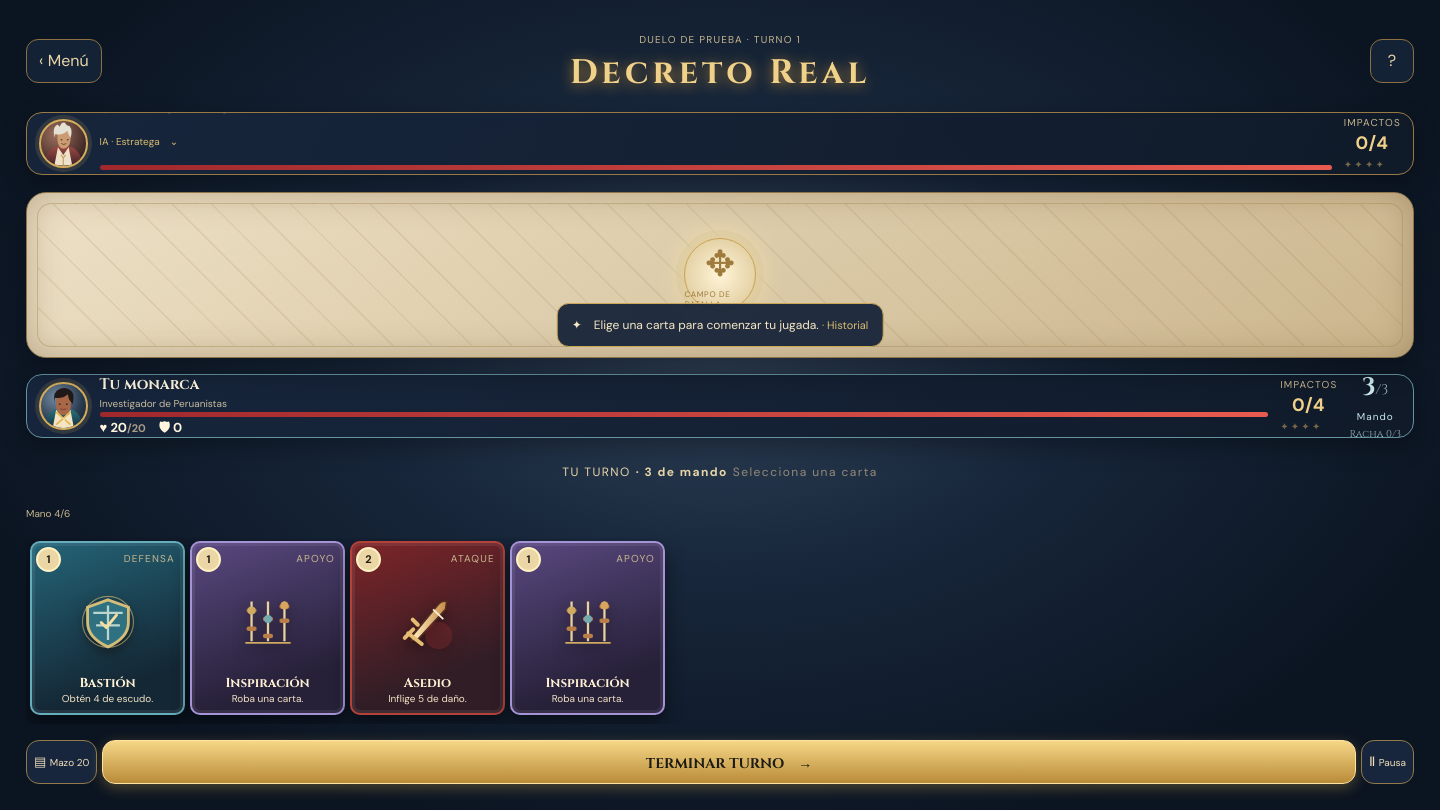
/duelo-v1 + real DR-01 engine › selects, cancels, confirms a card and reflects hand, discard and engine counters
The width and height of the screenshot is (1440, 810).
Later steps or results of the test are not shown.
Check: the text "DUELO DE PRUEBA · TURNO 1" is shown, box [639, 33, 801, 46]
Click the button with class "dr-card" that starts with "DEFENSA": click(108, 628) [30, 540, 185, 715]
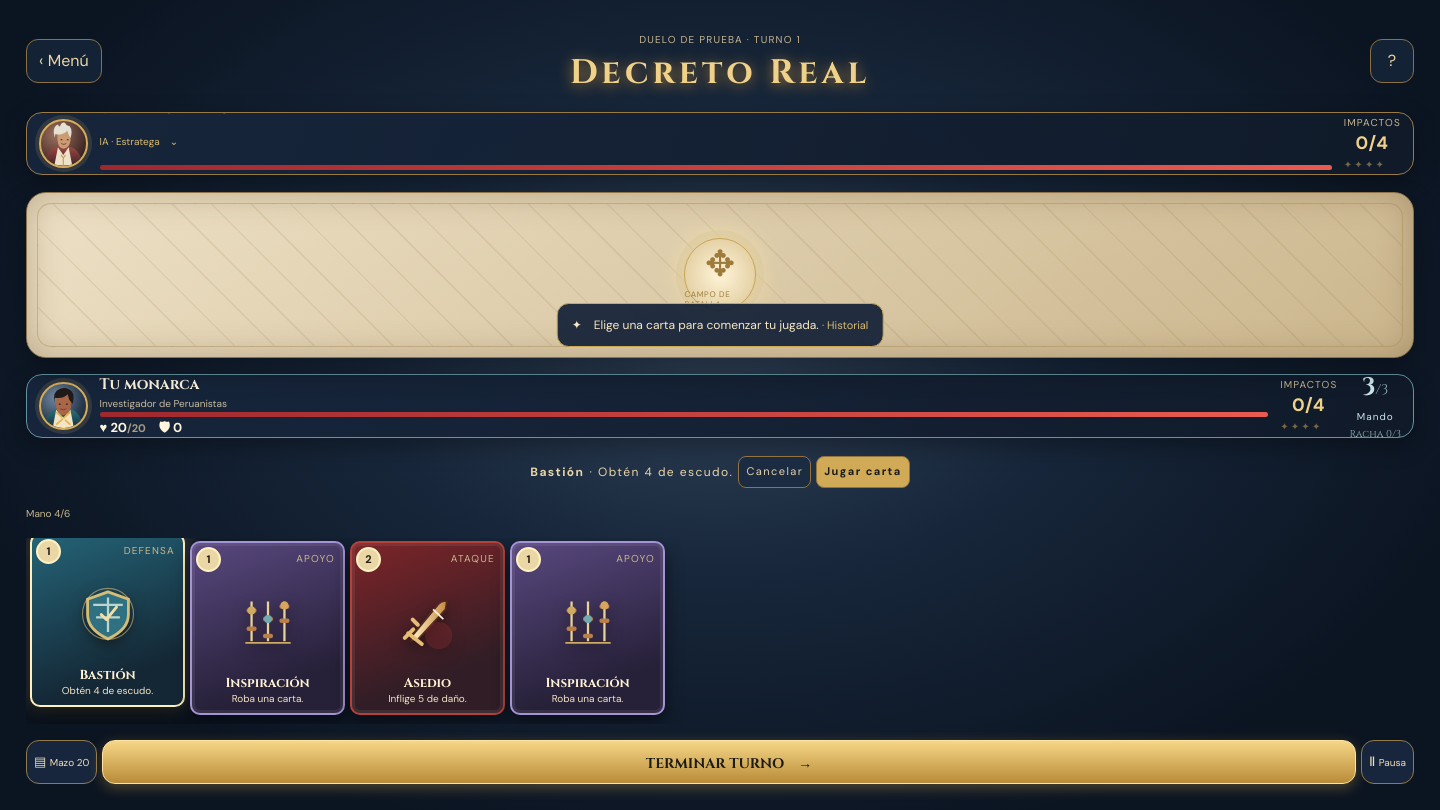
Click the button "Cancelar": click(775, 472) [738, 456, 811, 488]
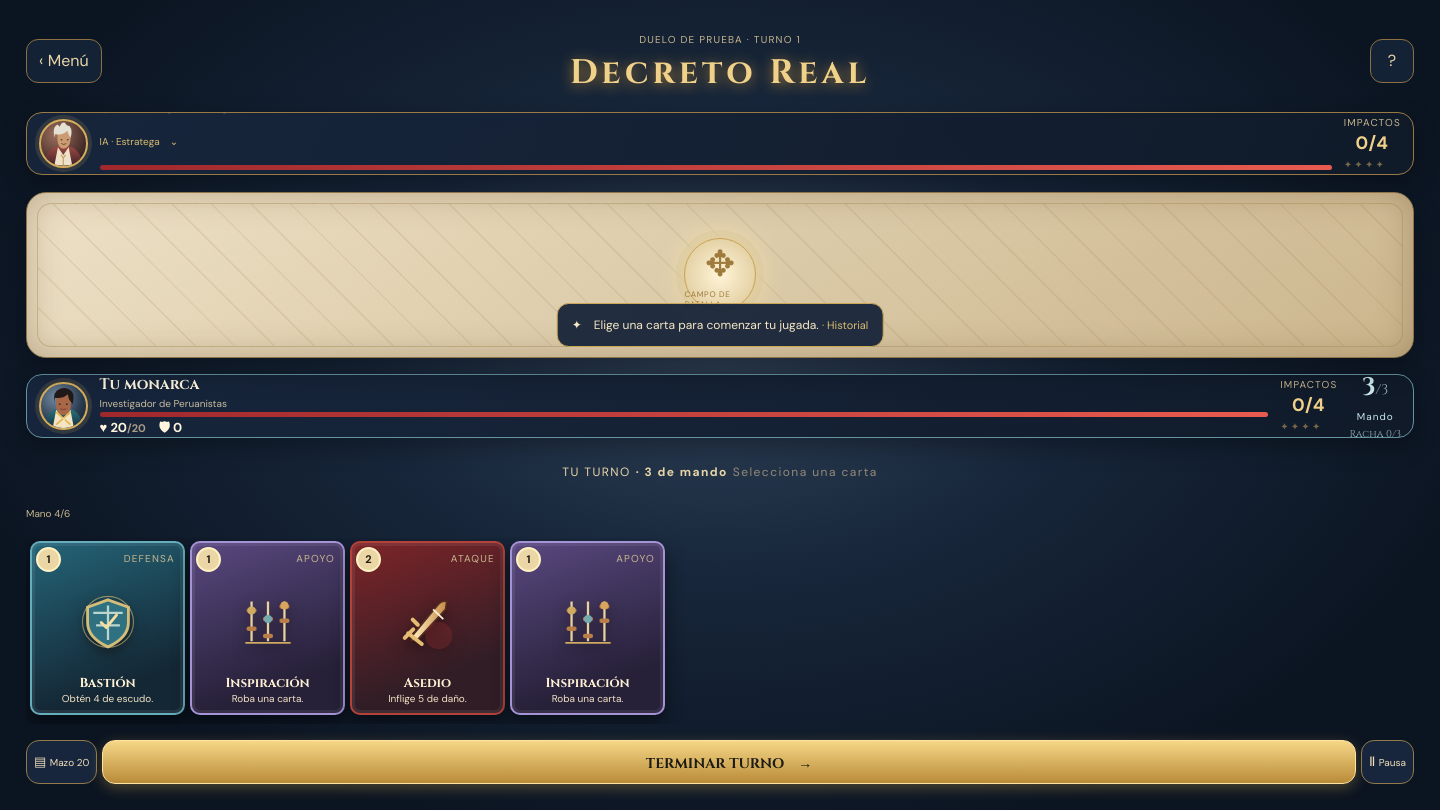
Check: the text "DUELO DE PRUEBA · TURNO 1" is shown, box [639, 33, 801, 46]
Check: the button "Jugar carta" is gone
Click the button with class "dr-card" that starts with "DEFENSA": click(108, 628) [30, 540, 185, 715]
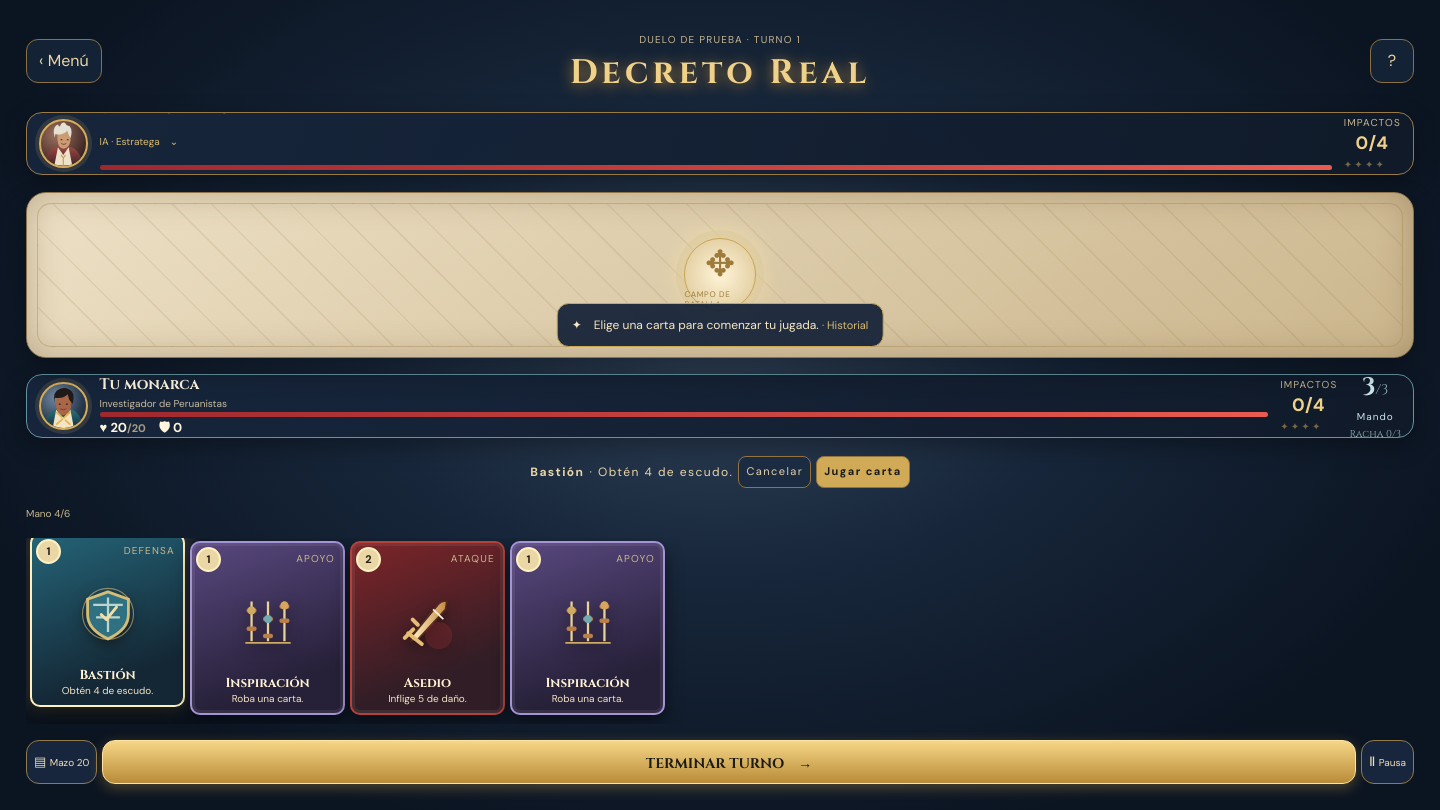
Check: the button with class "dr-card" is pressed, box [30, 538, 185, 707]
Click the button "Jugar carta": click(863, 472) [816, 456, 910, 488]
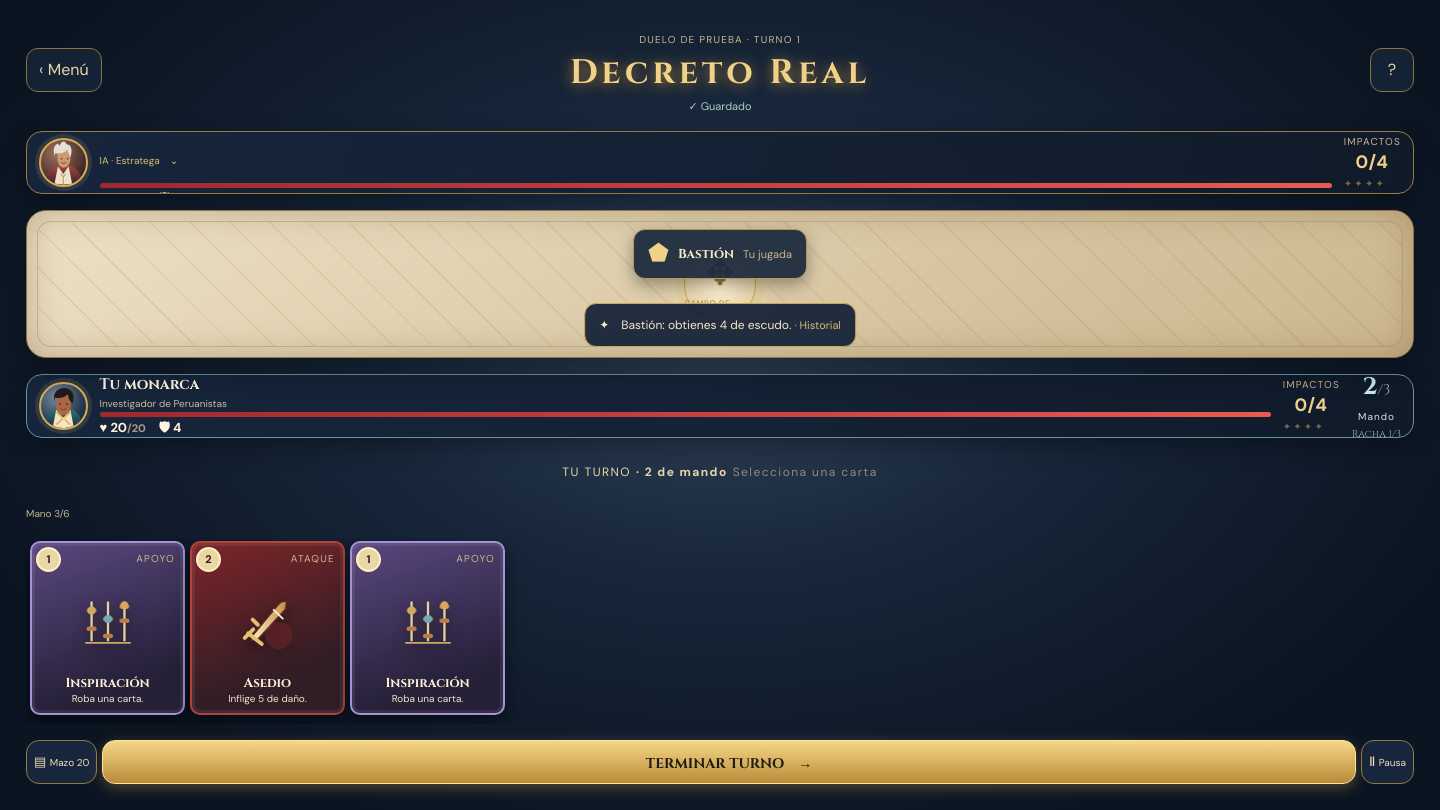
Check: the text "DUELO DE PRUEBA · TURNO 1" is shown, box [639, 33, 801, 46]
Check: the element showing "2/3" is shown, box [1363, 374, 1390, 403]
Click the button "▤ Mazo 20": click(62, 762) [26, 740, 97, 784]
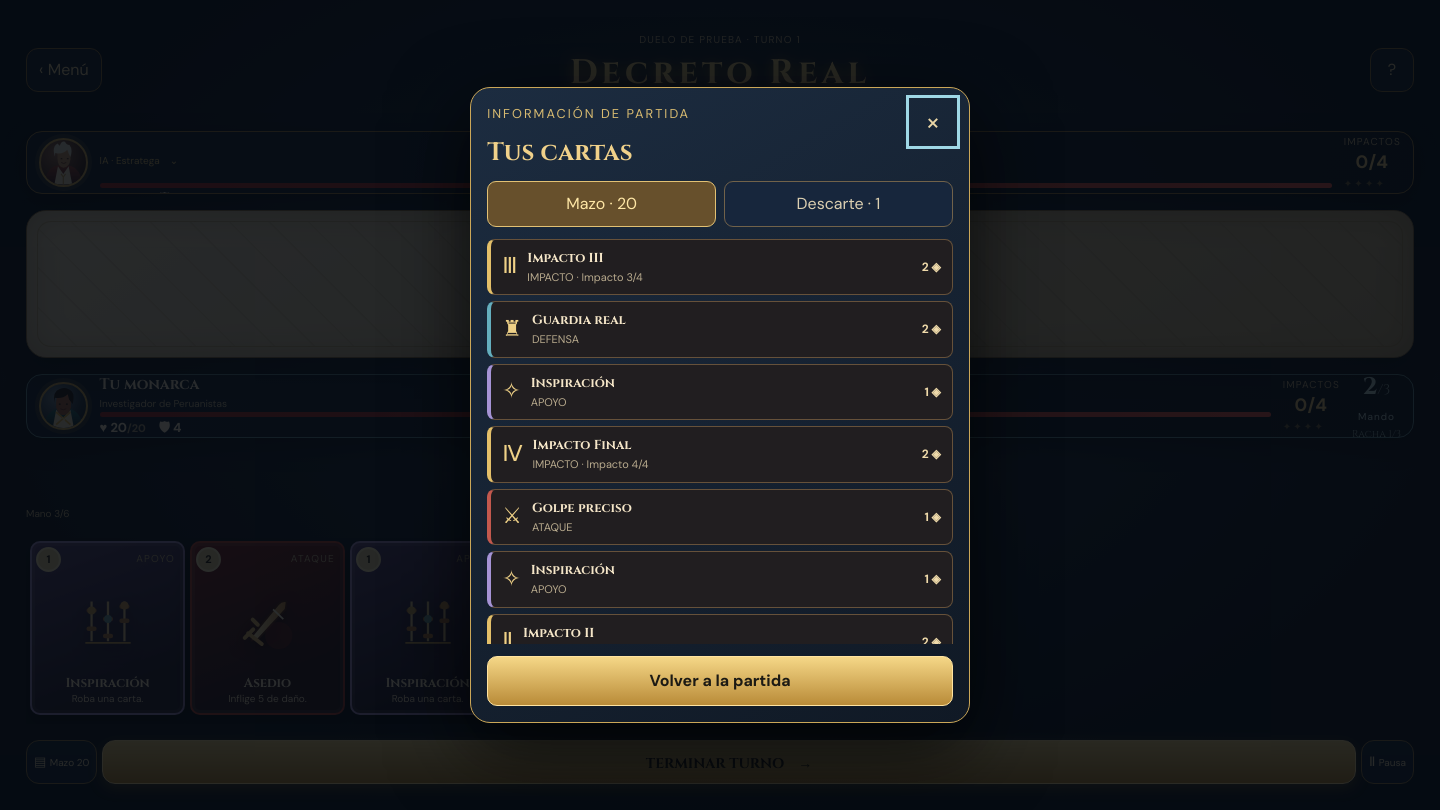
Click the button "Descarte · 1": click(838, 204) [724, 181, 953, 227]
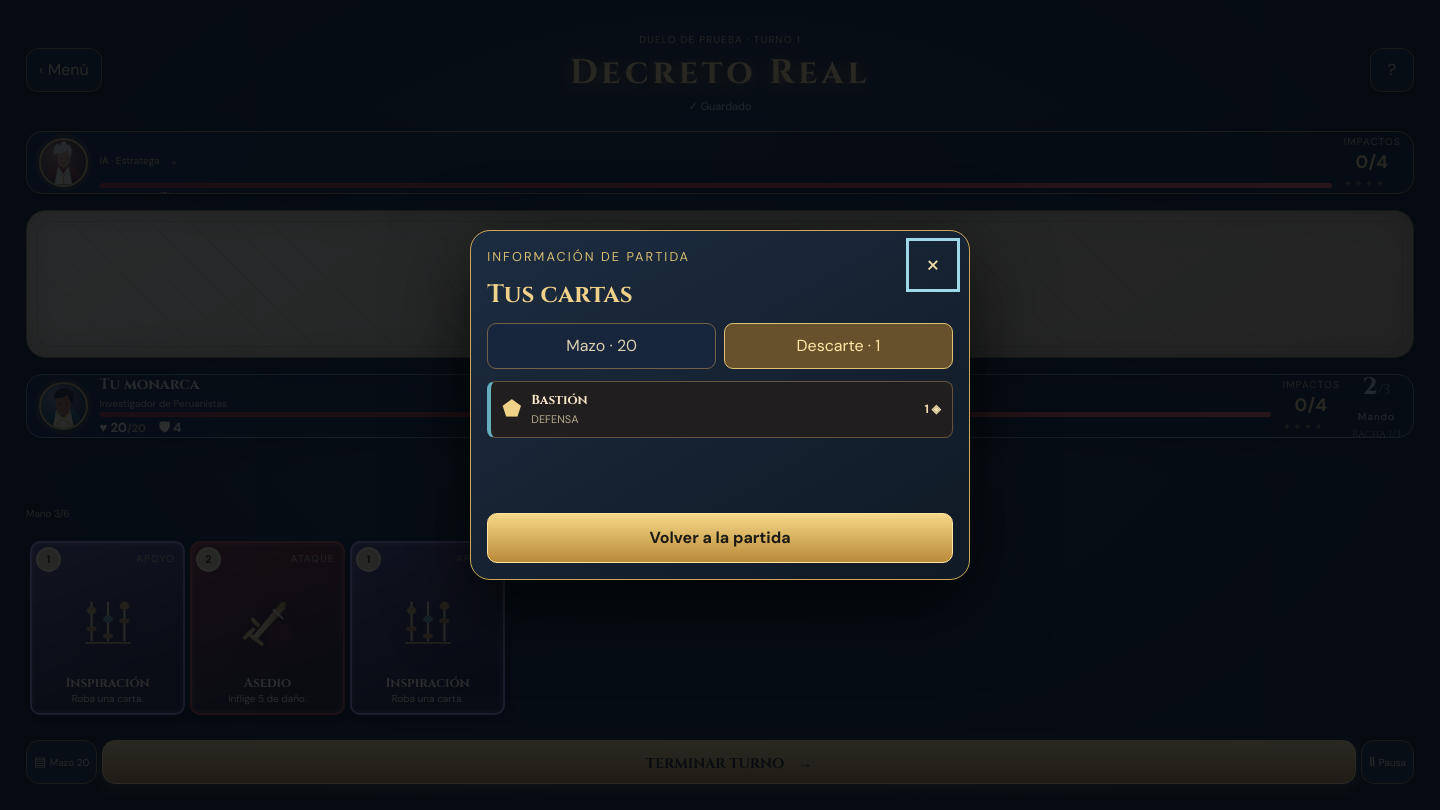
Check: the text "Bastión" is shown, box [531, 391, 588, 409]
